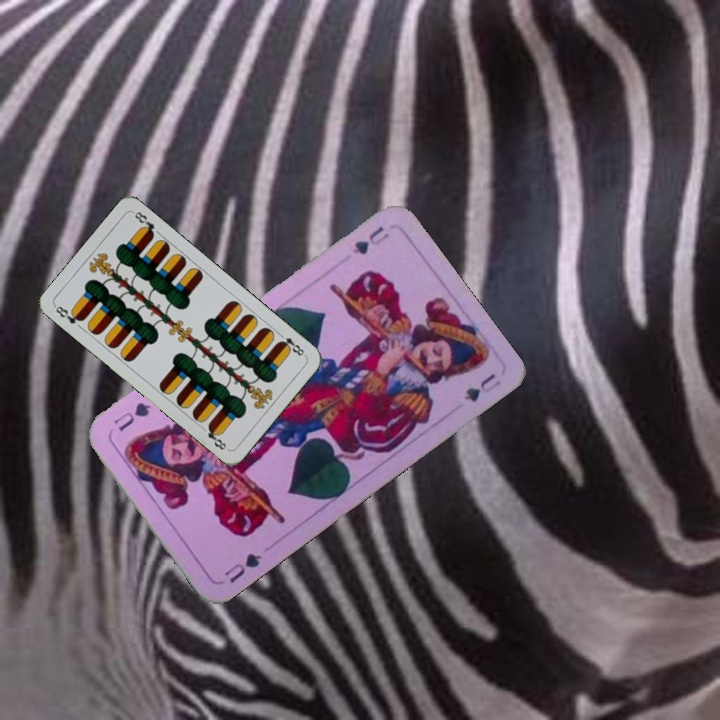E8: (274, 328, 308, 359), (51, 302, 86, 327)
GU: (220, 548, 264, 586), (348, 222, 392, 258)
